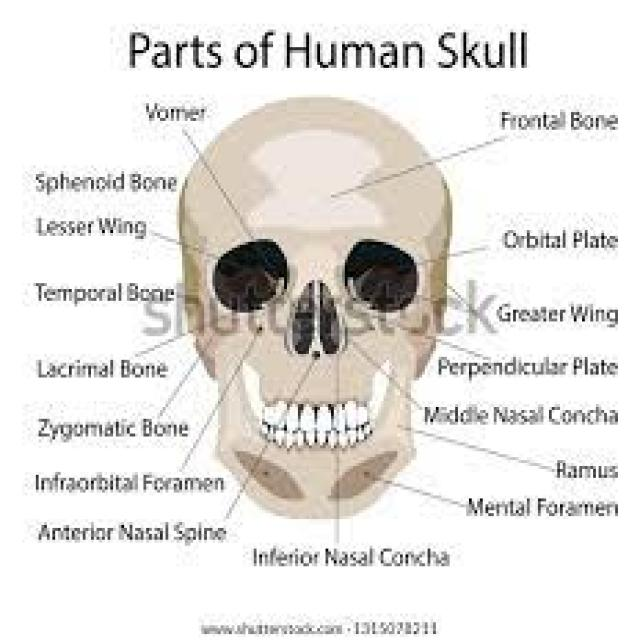skull: (140, 76, 479, 546)
